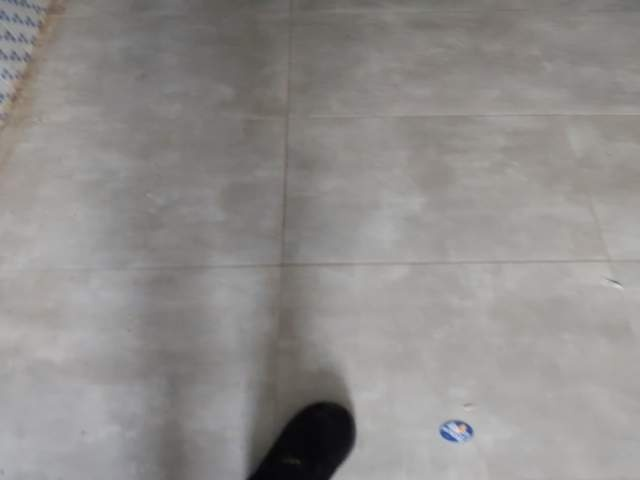pothole: (358, 438, 582, 480)
